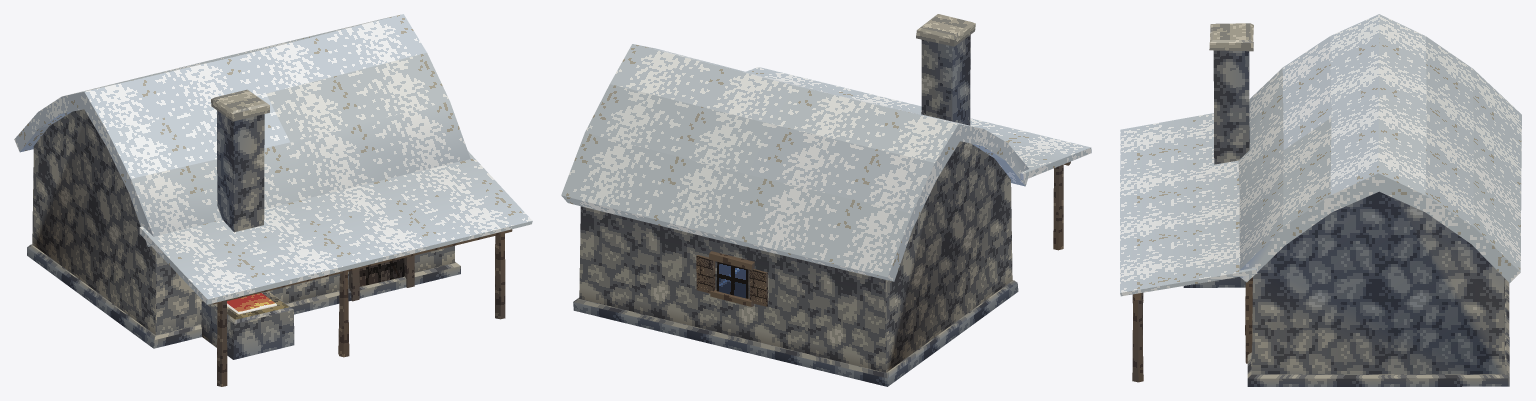
Rendered from vlg.smithy__thatch.glb.
3 views of the same model, side by side, from view 1: azimuth 30°, elevation 25°; view 2: azimuth 150°, elevation 25°; view 3: azimuth 270°, elevation 25° (orthographic). The views are drawn at different scales.
Parts seen in each view (by area): view 1: kit_roof, kit_walls, kit_stonework, kit_frame, kit_fittings; view 2: kit_roof, kit_walls, kit_stonework, kit_fittings, kit_frame; view 3: kit_roof, kit_walls, kit_stonework, kit_frame, kit_fittings.
Part boxes in pixels (x1,y1,x2,y2): kit_roof: [14, 14, 532, 304]; kit_walls: [32, 109, 454, 334]; kit_stonework: [27, 89, 460, 359]; kit_frame: [212, 229, 512, 386]; kit_fittings: [227, 255, 414, 314]; kit_roof: [561, 44, 1091, 281]; kit_walls: [579, 141, 1012, 372]; kit_stonework: [573, 14, 1018, 386]; kit_fittings: [696, 251, 767, 306]; kit_frame: [1053, 161, 1070, 250]; kit_roof: [1120, 14, 1521, 296]; kit_walls: [1252, 191, 1504, 374]; kit_stonework: [1183, 23, 1509, 386]; kit_frame: [1132, 292, 1143, 382]; kit_fittings: [1245, 277, 1252, 363].
Size of the model in its own units: 7.63 by 5.27 by 7.94.
9 materials, 9 textured.
